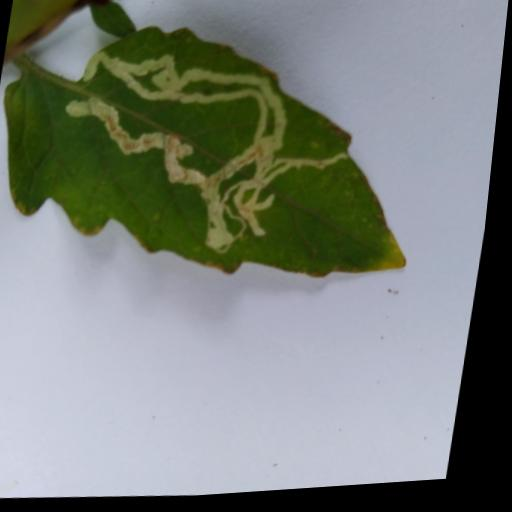Leaf_Miner: (0, 4, 450, 307)
